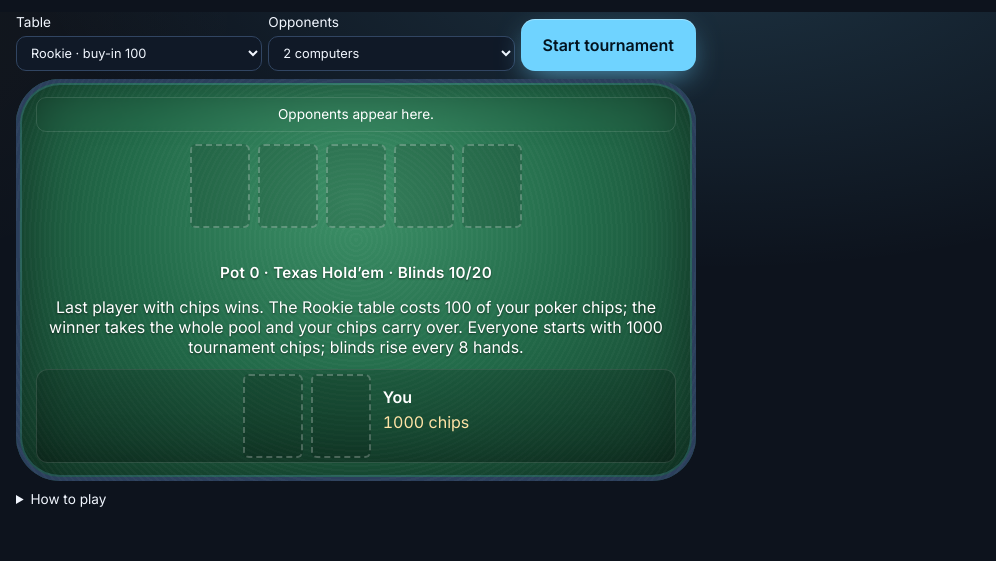
Test: Poker › shows setup first, charges the buy-in once, then deals two cards and posts the blinds
This screenshot has width=996, height=561.
Click the button "Start tournament".
click(608, 45)  # box top-left (520, 19), bottom-right (696, 71)
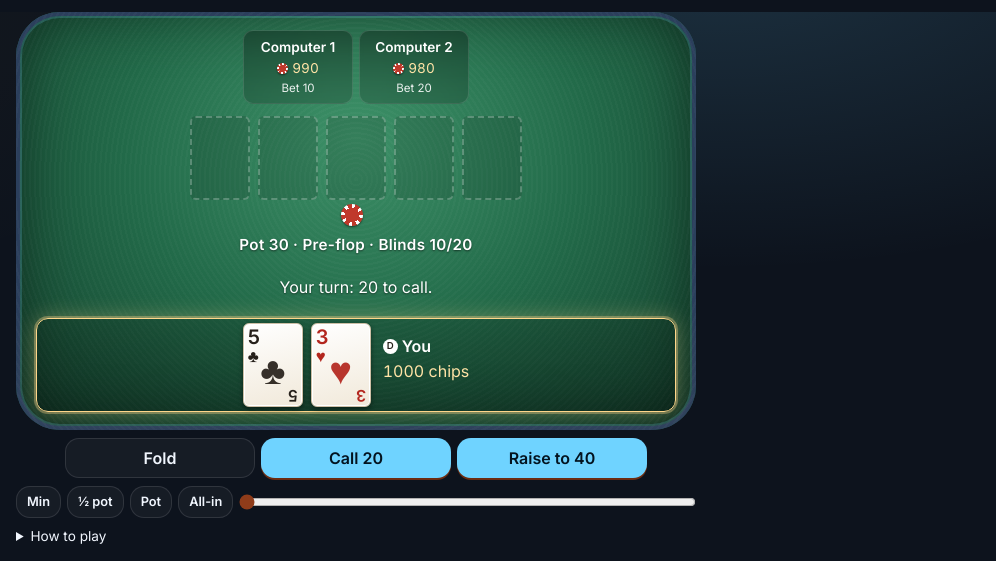
Expected: the text "Pot 30 · Pre-flop · Blinds 10/20" is shown, top-left (239, 234), bottom-right (473, 257)
Expected: the number of list items is 2, top-left (243, 30), bottom-right (353, 104); top-left (359, 30), bottom-right (469, 104)
